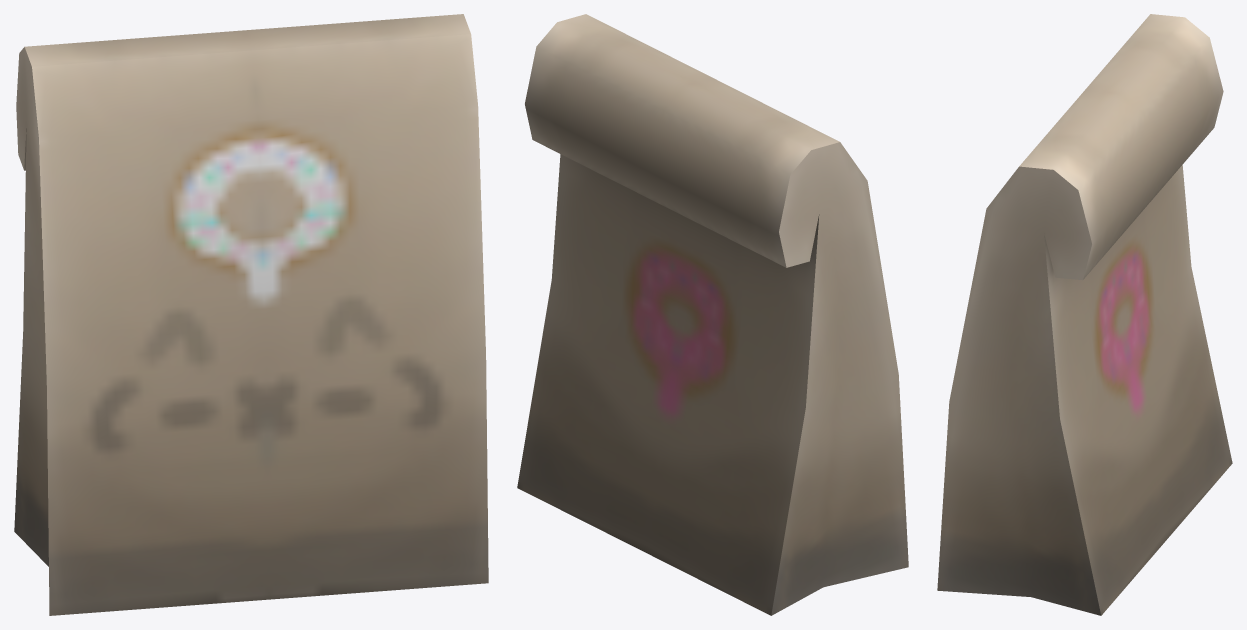
File: Cute Bag.FBX
3 renders of one model, left to right at view 1: azimuth 30°, elevation 25°; view 2: azimuth 150°, elevation 25°; view 3: azimuth 270°, elevation 25°, orthographic. The views are drawn at different scales.
Visible parts, largest first — view 1: Bolsa_Donut; view 2: Bolsa_Donut; view 3: Bolsa_Donut.
Boxes of the visible parts, left/top/right/bottom form: Bolsa_Donut: left=14, top=14, right=488, bottom=615; Bolsa_Donut: left=517, top=14, right=908, bottom=615; Bolsa_Donut: left=937, top=14, right=1232, bottom=615.
Bounding box in the file's own units: 31.88 × 22.38 × 36.7.
